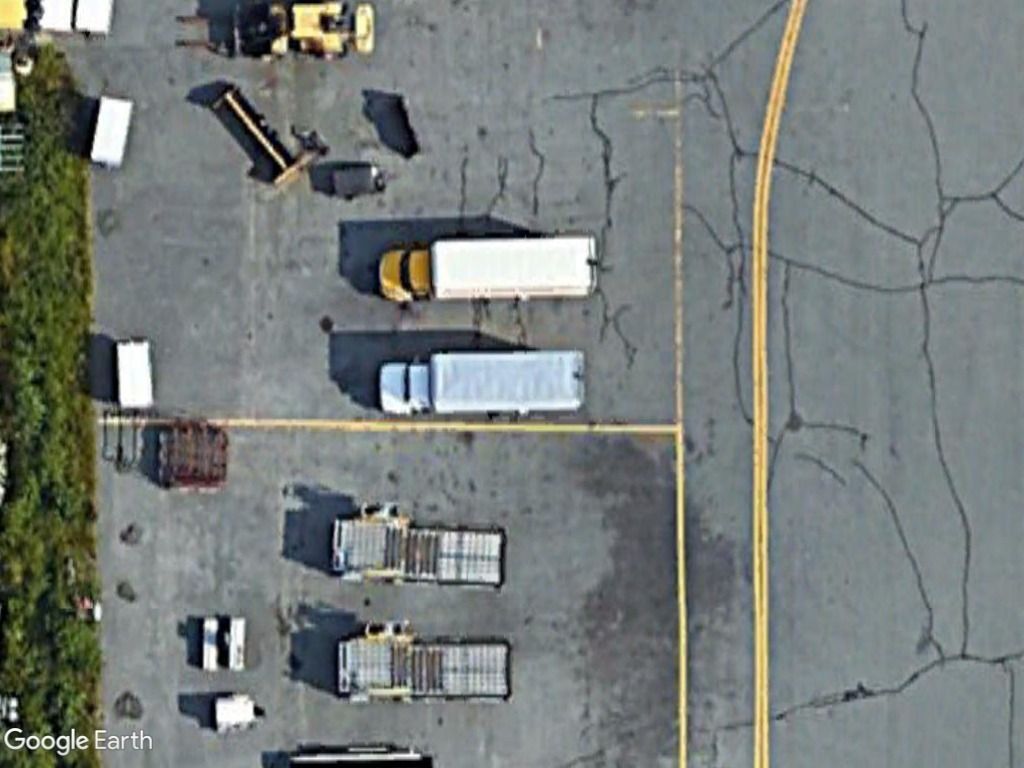truck: (371, 347, 588, 428), (373, 231, 599, 308)
